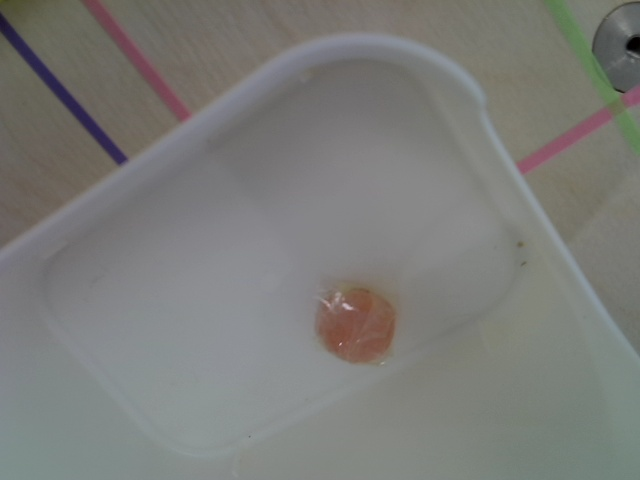씨앗: (313, 285, 400, 370)
